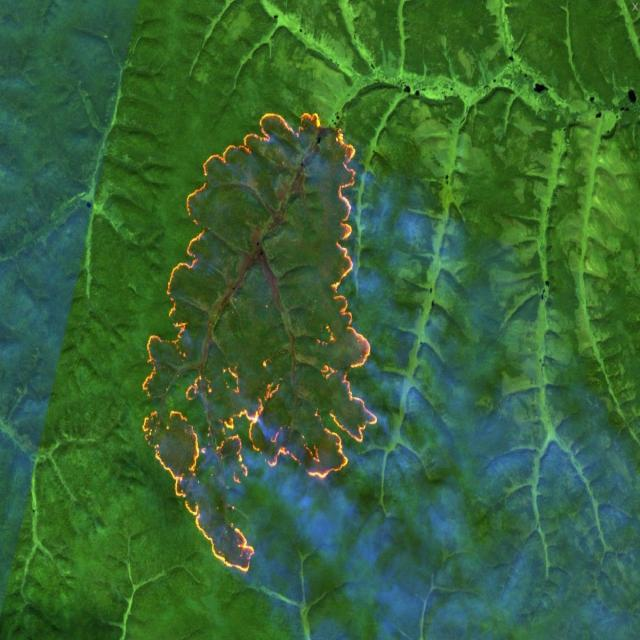fire: (137, 100, 385, 590)
